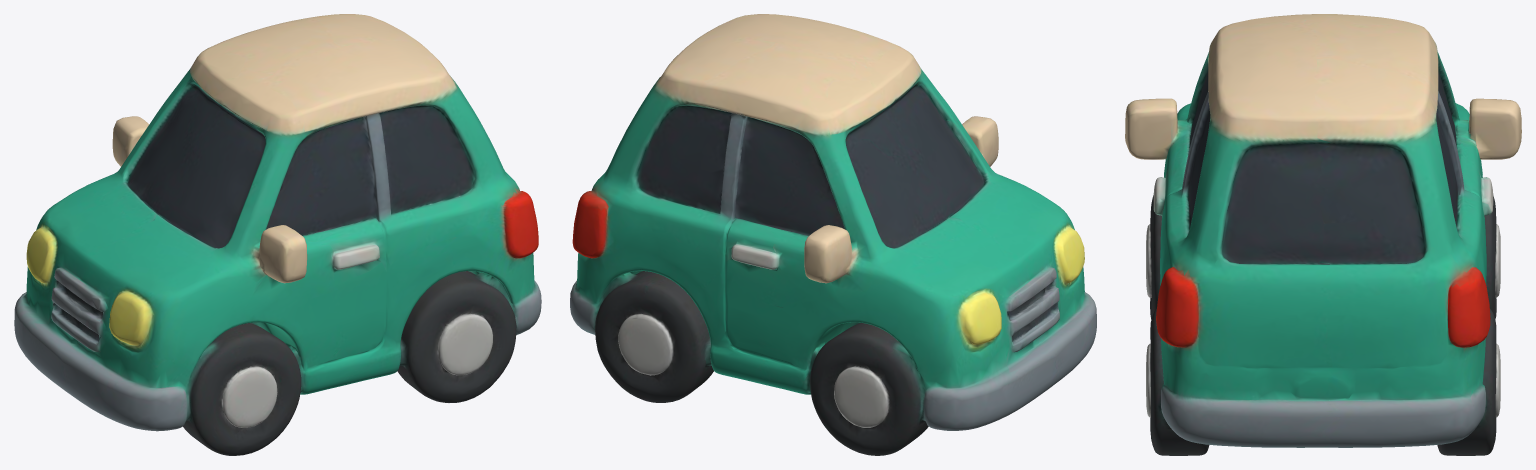
Rendered from carro 1.glb.
3 views of the same model, side by side, from view 1: azimuth 30°, elevation 25°; view 2: azimuth 150°, elevation 25°; view 3: azimuth 270°, elevation 25° (orthographic). The views are drawn at different scales.
Parts seen in each view (by area): view 1: tripo_node_7d236050-2d3e-4f3e-826b-03938ef09ed6; view 2: tripo_node_7d236050-2d3e-4f3e-826b-03938ef09ed6; view 3: tripo_node_7d236050-2d3e-4f3e-826b-03938ef09ed6.
Part boxes in pixels (x1,y1,x2,y2): tripo_node_7d236050-2d3e-4f3e-826b-03938ef09ed6: [14, 14, 541, 455]; tripo_node_7d236050-2d3e-4f3e-826b-03938ef09ed6: [570, 14, 1096, 455]; tripo_node_7d236050-2d3e-4f3e-826b-03938ef09ed6: [1125, 14, 1521, 455].
Size of the model in its own units: 0.9999 by 0.7039 by 0.6991.
1 material, 1 textured.
